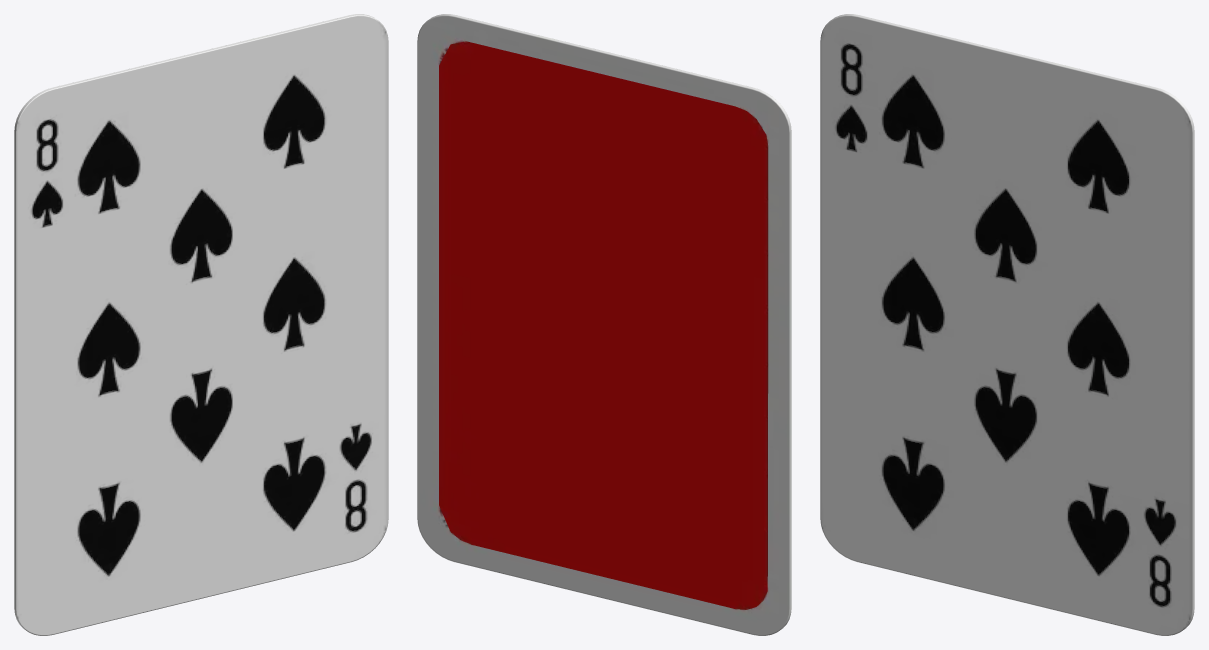
Rendered from spades_8.glb.
3 renders of one model, left to right at view 1: azimuth 30°, elevation 25°; view 2: azimuth 150°, elevation 25°; view 3: azimuth 330°, elevation 25°, orthographic.
Visible parts, largest first — view 1: defaultMaterial.004; view 2: defaultMaterial.004; view 3: defaultMaterial.004.
Boxes of the visible parts, <box> form: defaultMaterial.004: <box>14,14,388,635</box>; defaultMaterial.004: <box>417,14,791,635</box>; defaultMaterial.004: <box>820,14,1194,635</box>.
Size of the model in its own units: 0.1408 by 0.1972 by 0.00111.
Materials: 1 (1 with a texture image).
